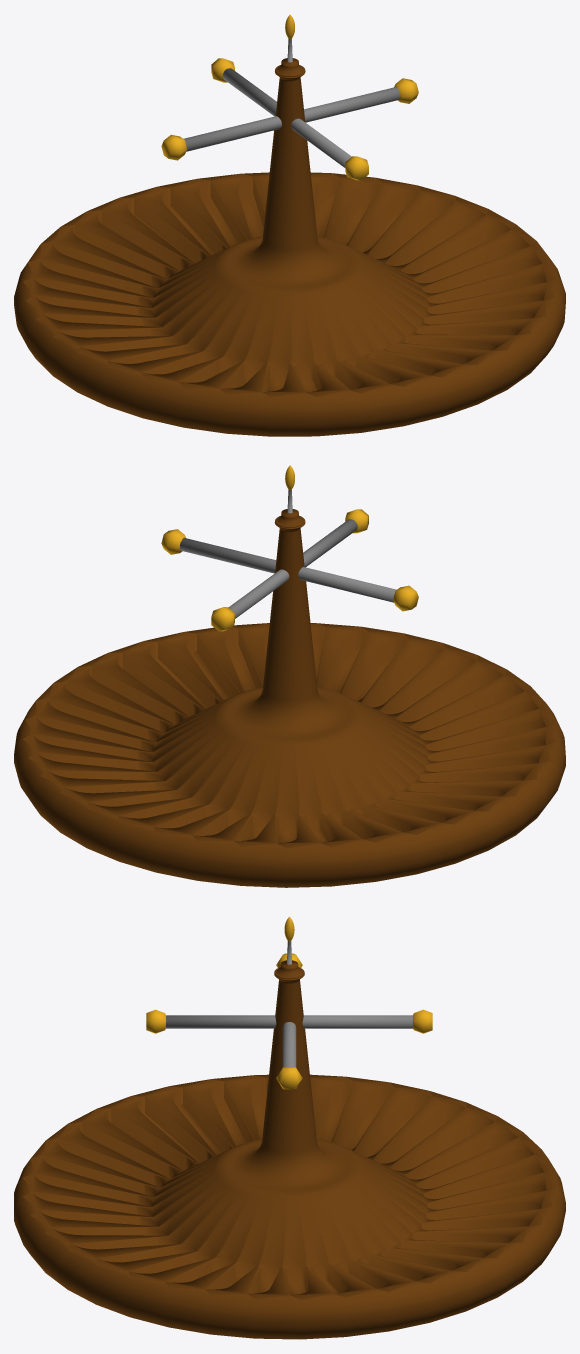
Rendered from wheel.glb.
3 renders of one model, top to bottom at view 1: azimuth 30°, elevation 25°; view 2: azimuth 150°, elevation 25°; view 3: azimuth 270°, elevation 25°, orthographic.
Visible parts, largest first — view 1: wheel; view 2: wheel; view 3: wheel.
Boxes of the visible parts, x1,y1,x2,y2 form: wheel: (14,14,565,436); wheel: (14,465,565,887); wheel: (14,916,565,1339).
Bounding box in the file's own units: 1.58 × 0.9771 × 1.58.
